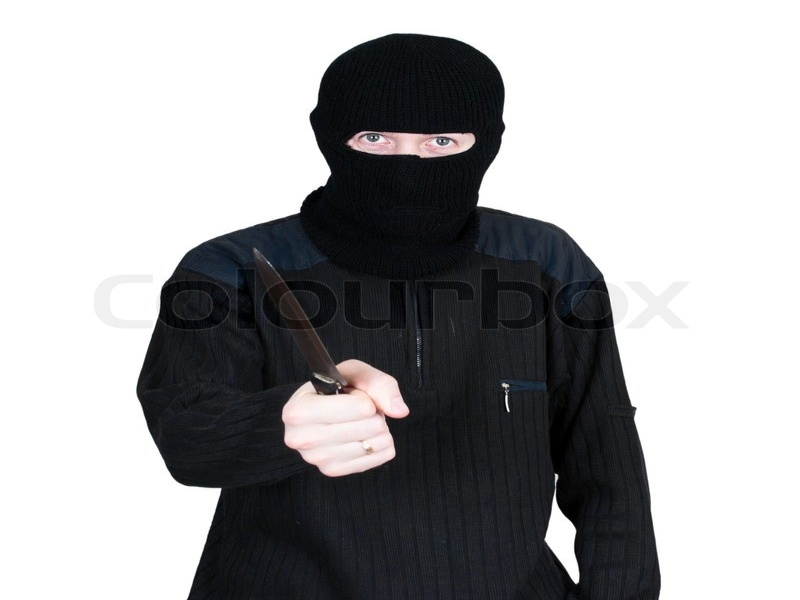balaclava: (299, 34, 506, 275)
hand: (279, 358, 410, 477)
knife: (251, 243, 351, 396)
person: (135, 33, 661, 600)
